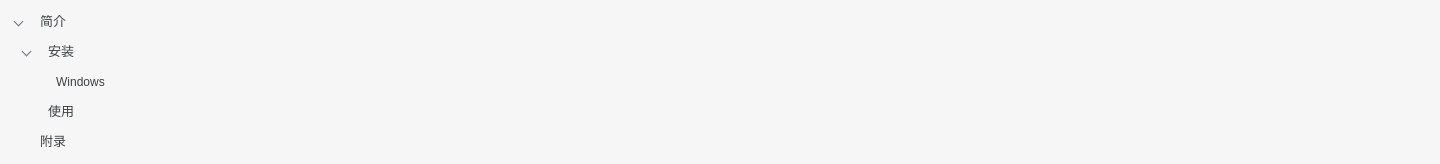
Test: Outline › 可以只折叠一个嵌套分支并再次展开
The width and height of the screenshot is (1440, 164).
Click the button named "折叠“安装”".
click(27, 52)  # box [16,41,38,63]
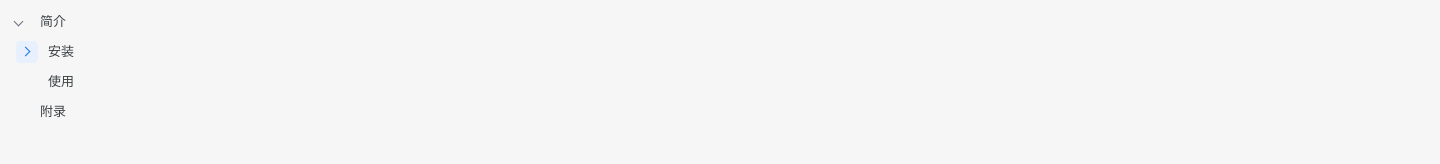
expect the button "使用" is shown: met, box [40,68,1434,96]
expect the button "Windows" is gone: met
Click the button named "展开“安装”".
click(27, 52)  # box [16,41,38,63]
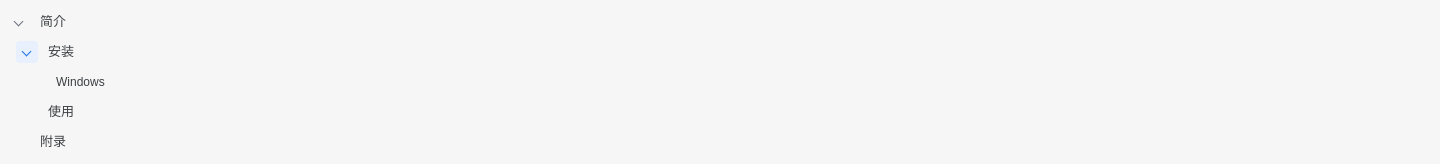
expect the button "Windows" is shown: met, box [48,68,1434,96]
